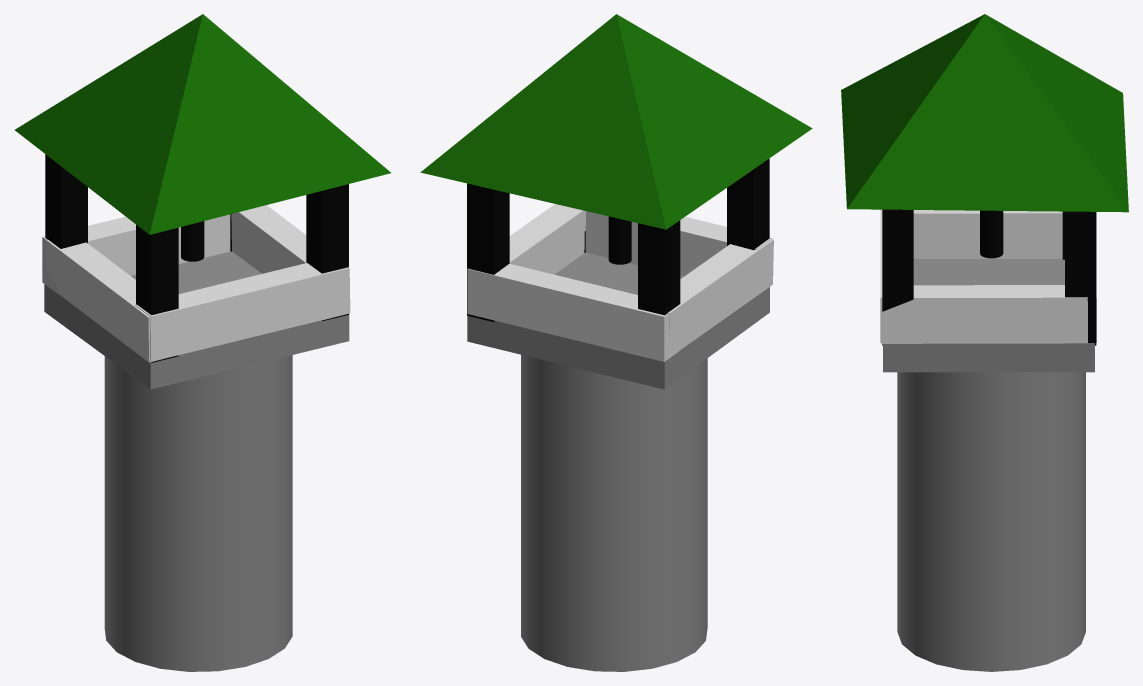
The model's file is UnityWatchtower.fbx.
The picture shows the model from 3 angles, left to right: view 1: azimuth 30°, elevation 25°; view 2: azimuth 150°, elevation 25°; view 3: azimuth 270°, elevation 25°; orthographic projection.
Visible parts, largest first — view 1: pCylinder1, pPyramid1, pCube6, pCube1, pCube8, pCube9, pCube5, pCube2, pCube7, pCube4, pCylinder2; view 2: pCylinder1, pPyramid1, pCube7, pCube1, pCube8, pCube9, pCube4, pCube3, pCube6, pCube5, pCylinder2; view 3: pCylinder1, pPyramid1, pCube9, pCube1, pCube8, pCube3, pCube2, pCylinder2.
Boxes of the visible parts, bbox=[...] form: pCylinder1: bbox=[104, 355, 292, 671]; pPyramid1: bbox=[15, 14, 390, 234]; pCube6: bbox=[135, 263, 349, 361]; pCube1: bbox=[44, 251, 349, 389]; pCube8: bbox=[46, 239, 158, 362]; pCube9: bbox=[231, 205, 350, 320]; pCube5: bbox=[136, 224, 178, 362]; pCube2: bbox=[306, 184, 348, 321]; pCube7: bbox=[42, 214, 230, 293]; pCube4: bbox=[45, 154, 87, 248]; pCylinder2: bbox=[181, 221, 204, 261]; pCylinder1: bbox=[521, 354, 707, 671]; pPyramid1: bbox=[420, 14, 812, 229]; pCube7: bbox=[467, 263, 680, 361]; pCube1: bbox=[467, 252, 769, 389]; pCube8: bbox=[668, 239, 773, 349]; pCube9: bbox=[509, 204, 585, 274]; pCube4: bbox=[638, 220, 680, 315]; pCube3: bbox=[467, 183, 509, 321]; pCube6: bbox=[585, 211, 772, 276]; pCube5: bbox=[727, 158, 769, 250]; pCylinder2: bbox=[608, 216, 631, 264]; pCylinder1: bbox=[897, 372, 1085, 671]; pPyramid1: bbox=[841, 14, 1128, 212]; pCube9: bbox=[881, 285, 1087, 343]; pCube1: bbox=[883, 258, 1094, 372]; pCube8: bbox=[913, 210, 1062, 258]; pCube3: bbox=[1065, 211, 1096, 345]; pCube2: bbox=[882, 209, 913, 345]; pCylinder2: bbox=[980, 210, 1003, 258].
Bounding box in the file's own units: 8.89 × 20.99 × 8.85.
